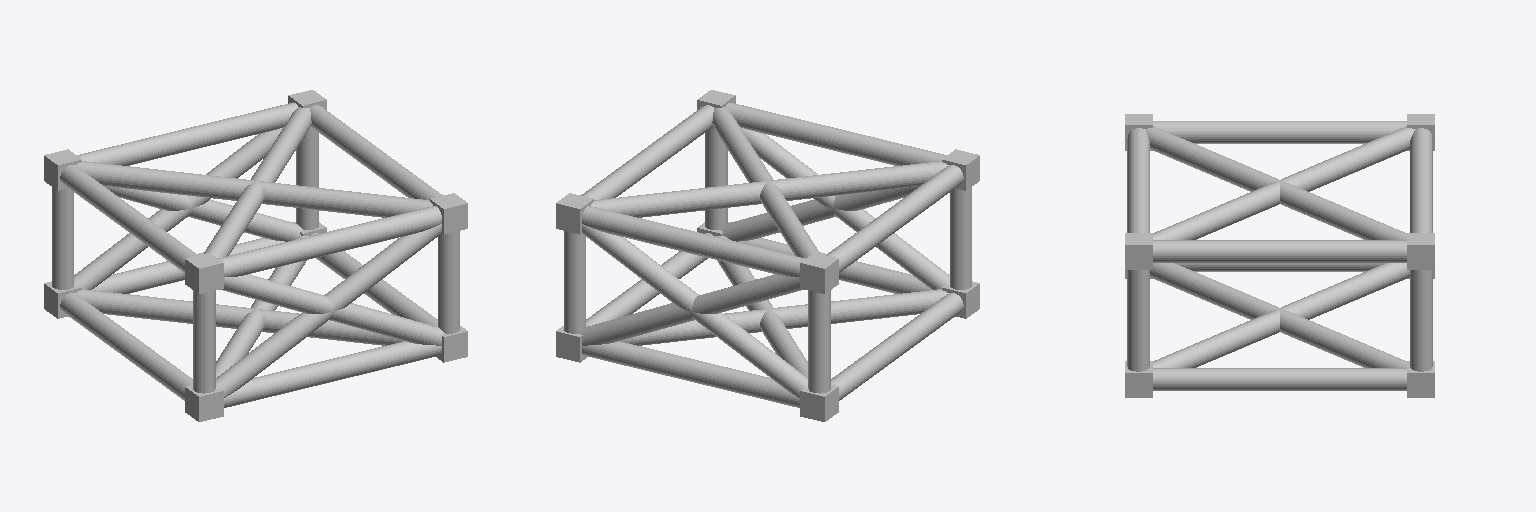
Rendered from construct_halfBlock.obj.
The picture shows the model from 3 angles: view 1: azimuth 30°, elevation 25°; view 2: azimuth 150°, elevation 25°; view 3: azimuth 270°, elevation 25°; orthographic projection.
Visible parts, largest first — view 1: Cube; view 2: Cube; view 3: Cube.
Part boxes in pixels (x1,y1,x2,y2): Cube: (44, 90, 467, 421); Cube: (556, 90, 979, 421); Cube: (1125, 114, 1434, 397).
Size of the model in its own units: 1.1 by 0.6 by 1.1.